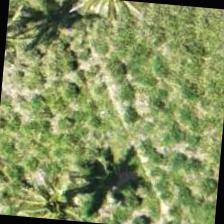Kelapa_Sawit: (18, 142, 114, 224)
